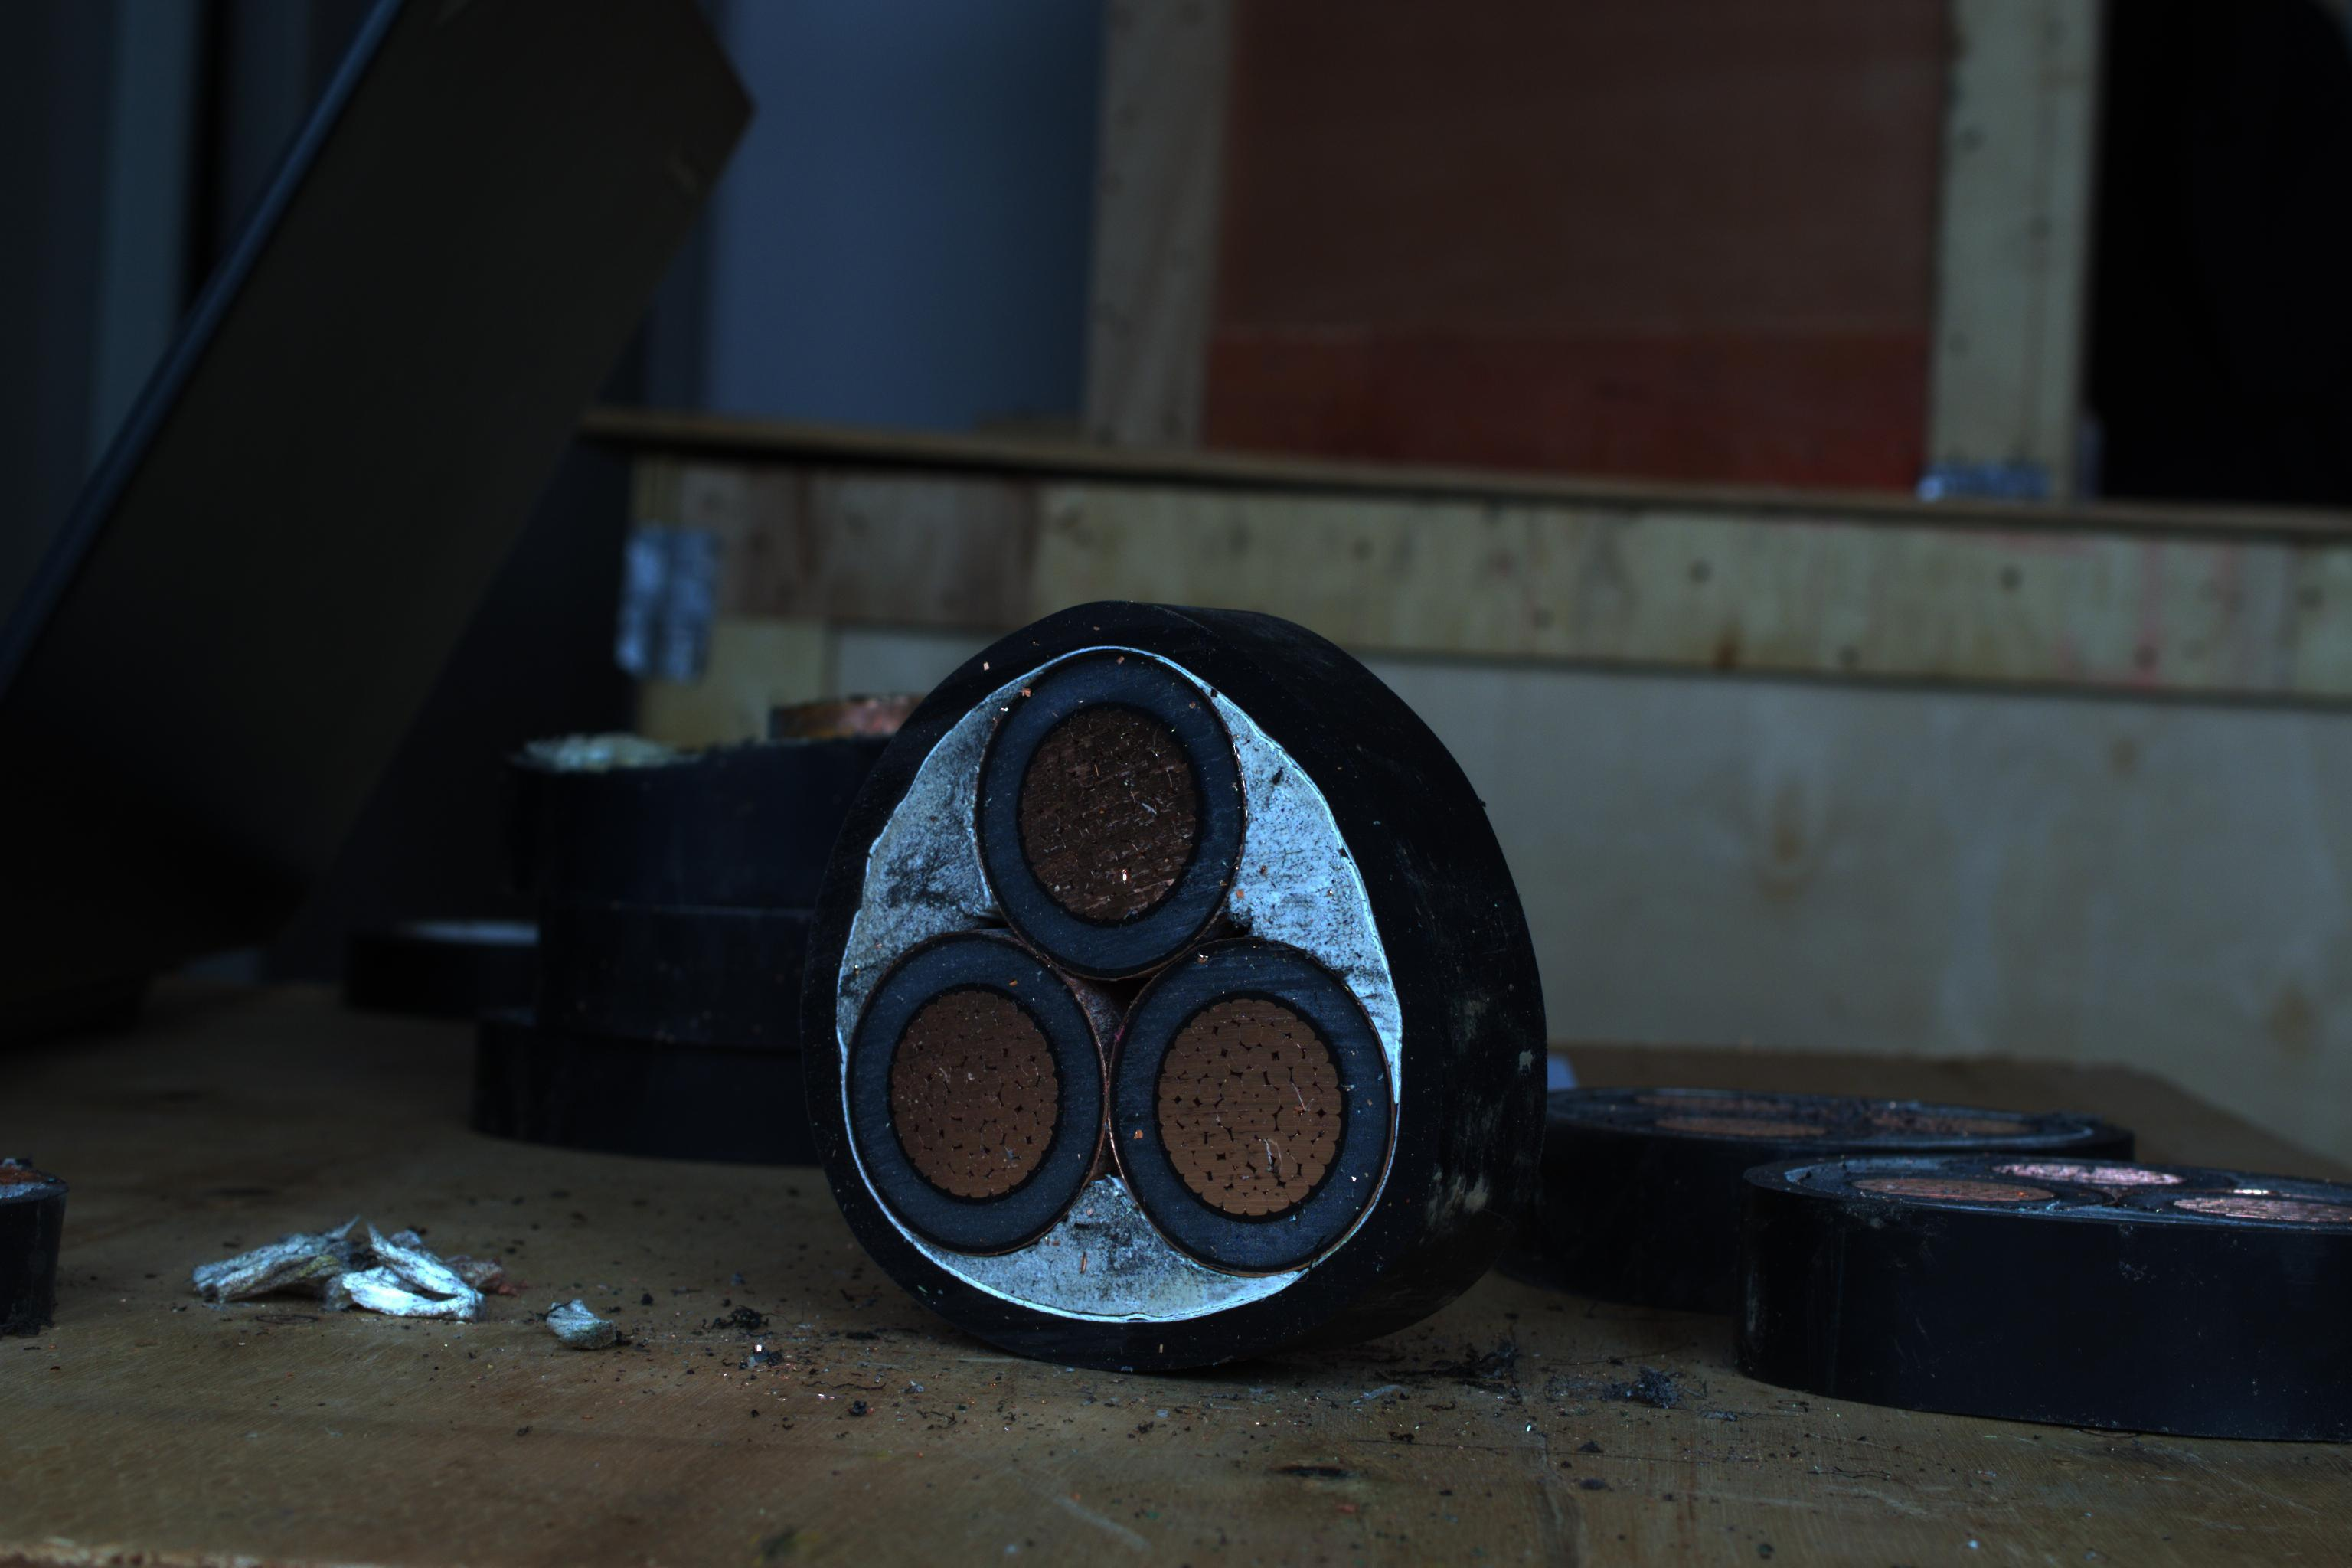ZA_YJV_8.7_10kV_3x400: (807, 611, 1454, 1379)
